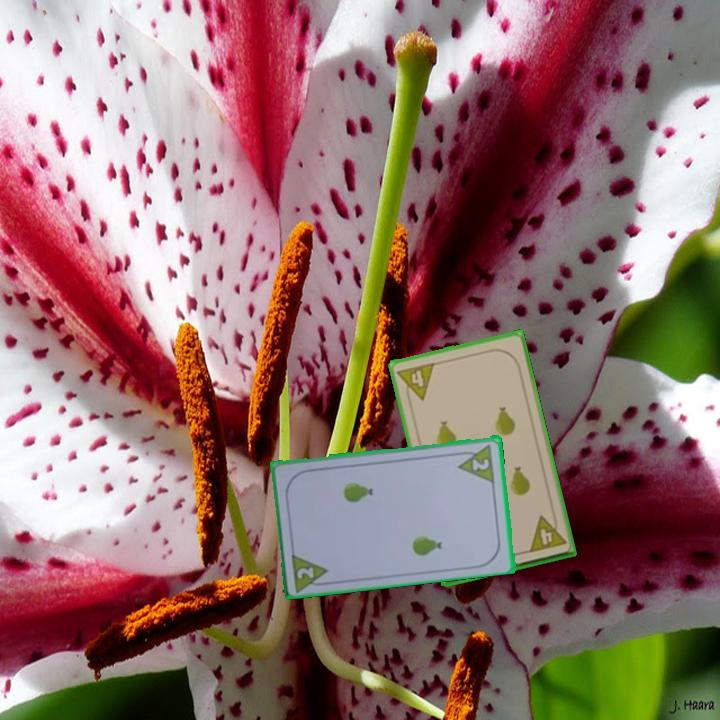2p: (288, 549, 333, 593), (454, 440, 498, 484)
4p: (394, 359, 437, 406), (525, 510, 569, 555)
